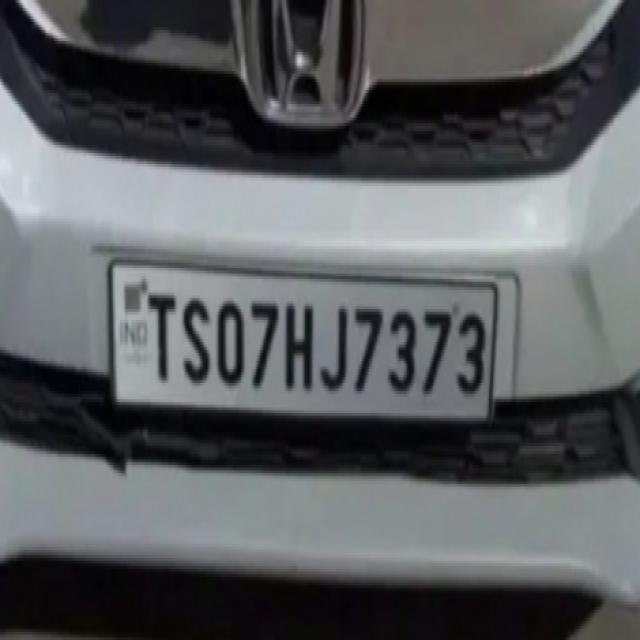0: (214, 284, 247, 402)
3: (455, 293, 489, 411), (386, 297, 420, 400)
7: (246, 280, 280, 404), (353, 296, 387, 408), (420, 297, 454, 408)
H: (283, 292, 316, 406)
J: (316, 292, 352, 404)
S: (177, 280, 214, 396)
T: (141, 274, 182, 397)
